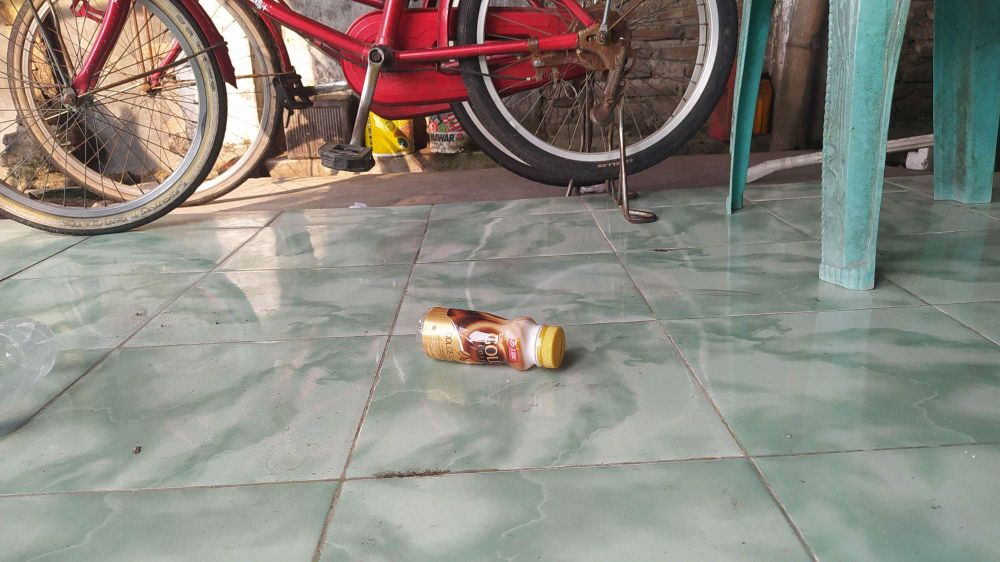botol: (411, 296, 601, 384)
